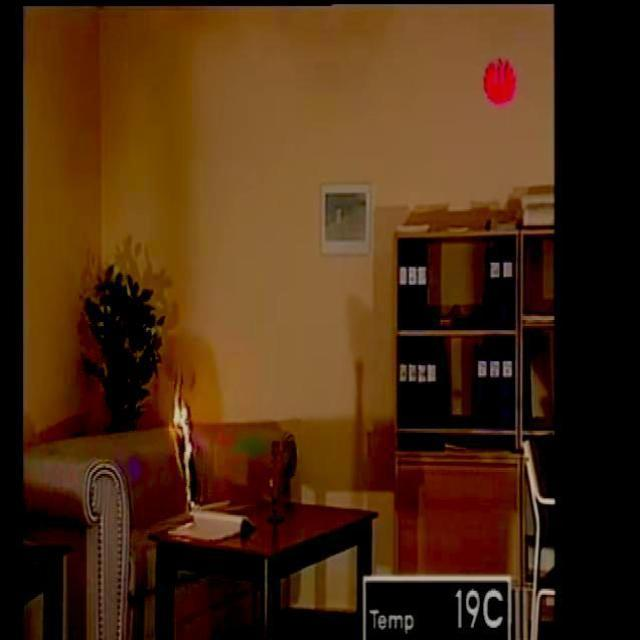smoke: (168, 368, 204, 516)
